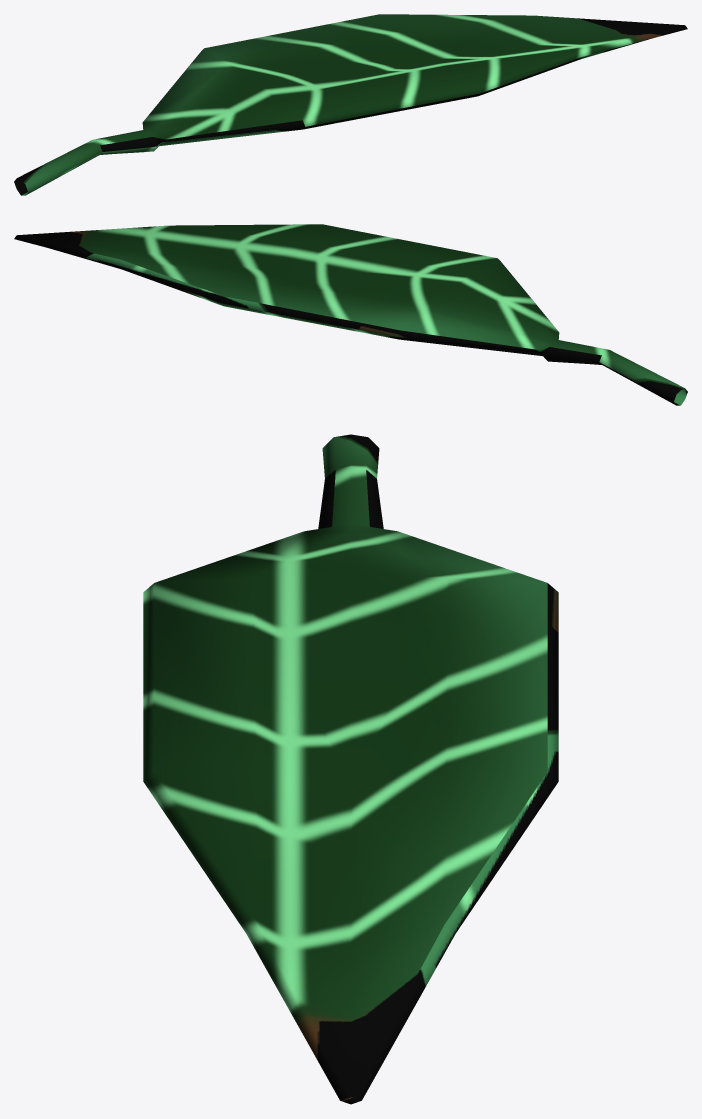
Rendered from Leaf-Large-1.fbx.
3 renders of one model, top to bottom at view 1: azimuth 30°, elevation 25°; view 2: azimuth 150°, elevation 25°; view 3: azimuth 270°, elevation 25°, orthographic. The views are drawn at different scales.
Parts seen in each view (by area): view 1: Leaf-Large-1.001; view 2: Leaf-Large-1.001; view 3: Leaf-Large-1.001.
Boxes of the visible parts, left/top/right/bottom form: Leaf-Large-1.001: left=14, top=14, right=687, bottom=195; Leaf-Large-1.001: left=14, top=224, right=687, bottom=405; Leaf-Large-1.001: left=143, top=434, right=558, bottom=1104.
Bounding box in the file's own units: 21.21 × 1.81 × 5.74.
